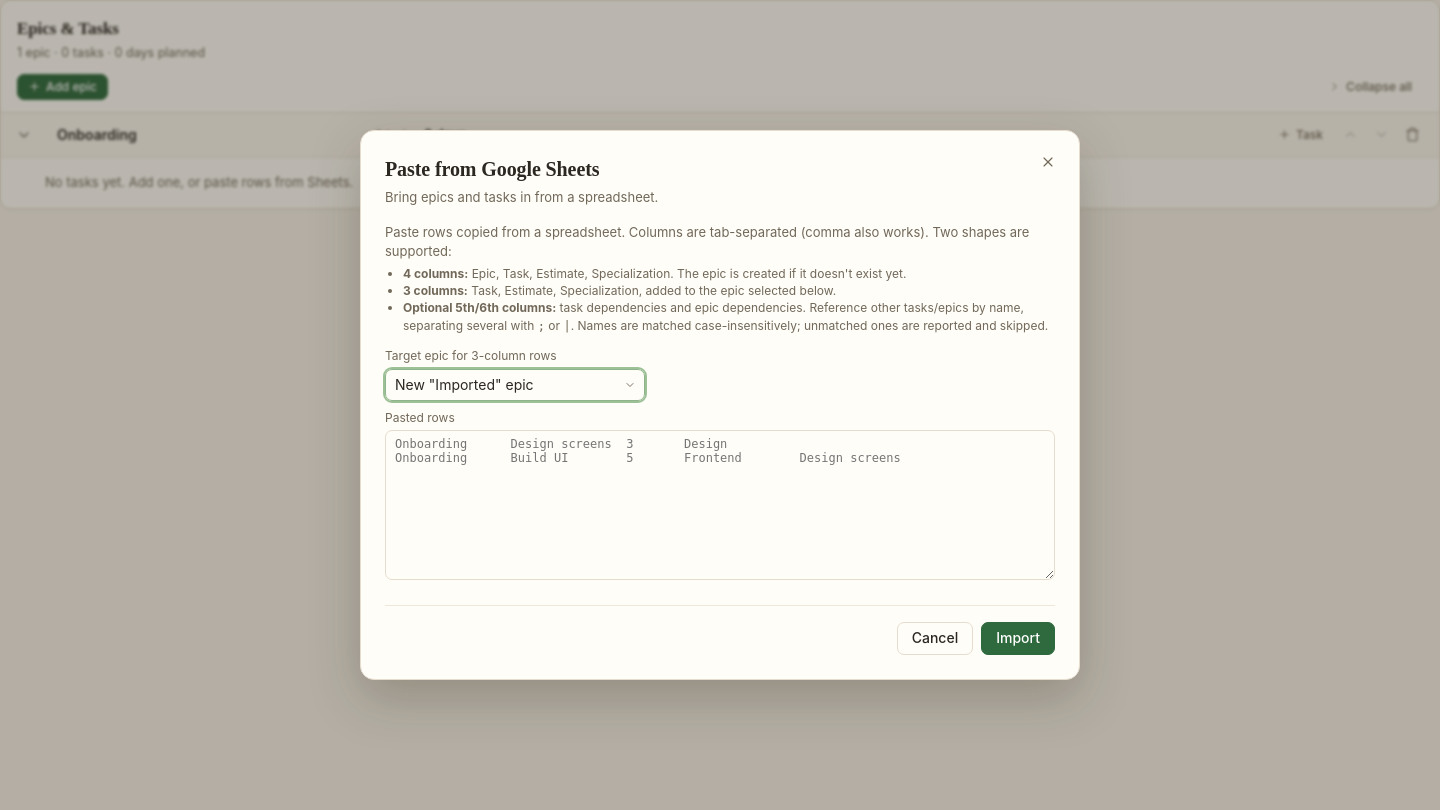
PasteImportModal › Cancel closes the modal
Click the button "Cancel" at (935, 639), box [897,622,973,655]
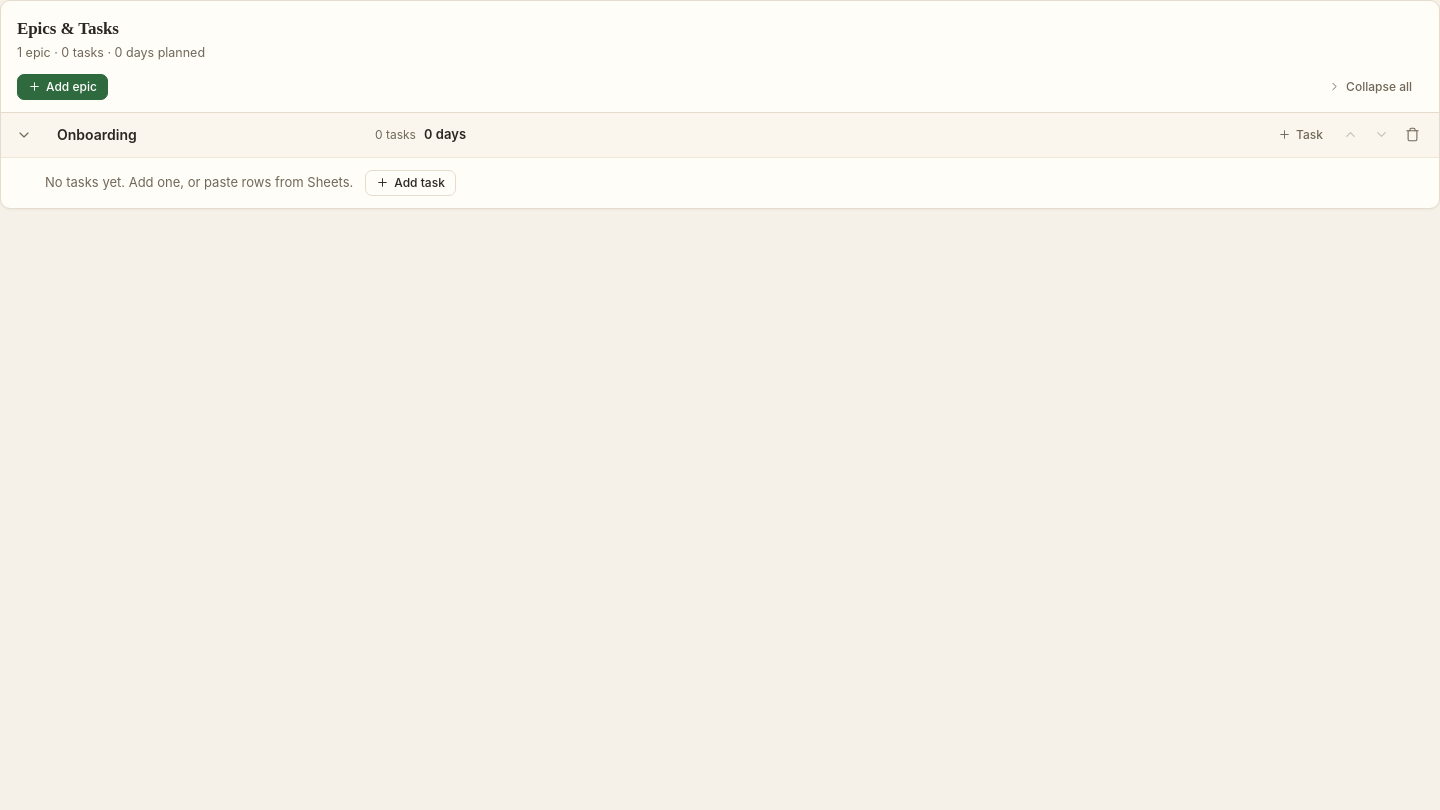
Now the label labelled "Pasted rows" is gone
